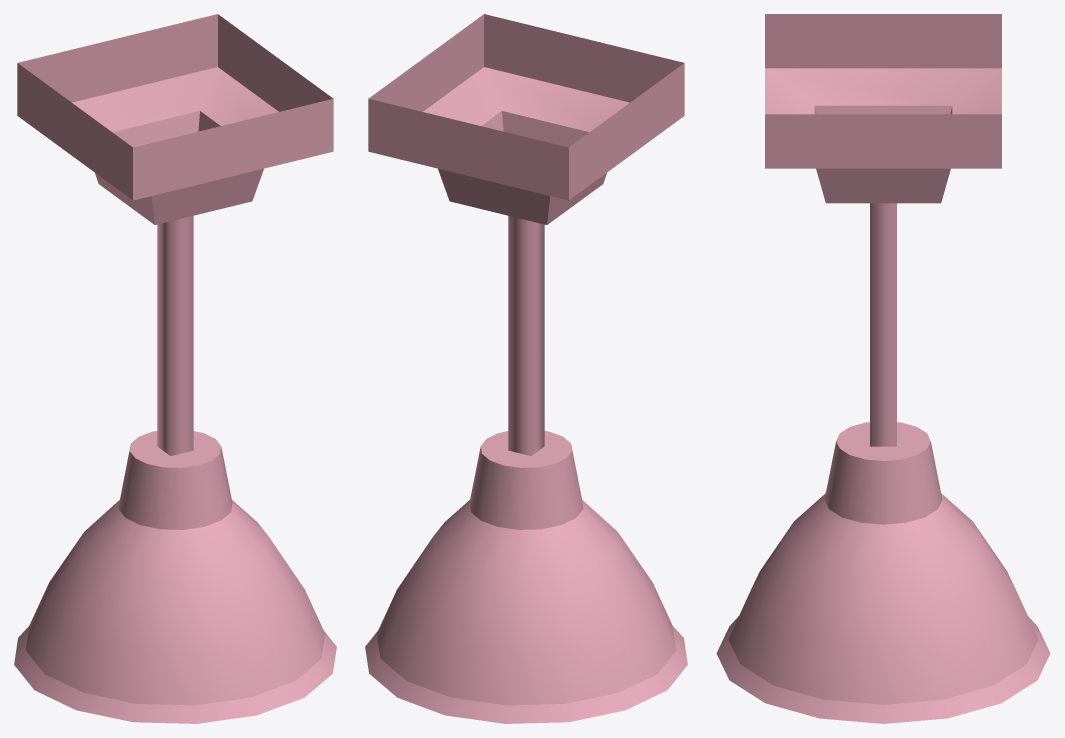
File: CeilingLamp.fbx
The picture shows the model from 3 angles, left to right: view 1: azimuth 30°, elevation 25°; view 2: azimuth 150°, elevation 25°; view 3: azimuth 270°, elevation 25°; orthographic projection. The views are drawn at different scales.
Parts seen in each view (by area): view 1: CeilingLamp; view 2: CeilingLamp; view 3: CeilingLamp.
Boxes of the visible parts, x1=… form: CeilingLamp: x1=14, y1=14, x2=336, y2=723; CeilingLamp: x1=365, y1=14, x2=687, y2=723; CeilingLamp: x1=716, y1=14, x2=1050, y2=723.
Size of the model in its own units: 56.65 by 110 by 56.65.
